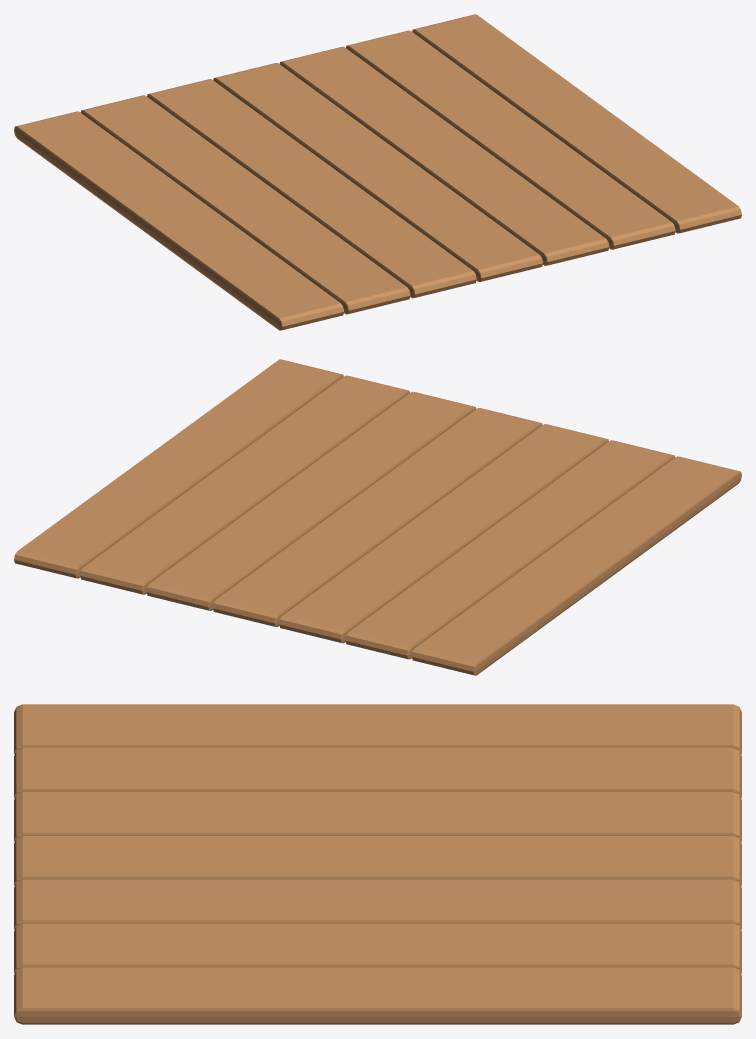
The model's file is Wood_floor_1.glb.
3 renders of one model, top to bottom at view 1: azimuth 30°, elevation 25°; view 2: azimuth 150°, elevation 25°; view 3: azimuth 270°, elevation 25°, orthographic. The views are drawn at different scales.
Parts seen in each view (by area): view 1: Wood_floor_1; view 2: Wood_floor_1; view 3: Wood_floor_1.
Boxes of the visible parts, left/top/right/bottom form: Wood_floor_1: left=14, top=14, right=741, bottom=330; Wood_floor_1: left=14, top=359, right=741, bottom=675; Wood_floor_1: left=14, top=704, right=741, bottom=1024.
Bounding box in the file's own units: 7.91 × 0.2 × 7.99.
